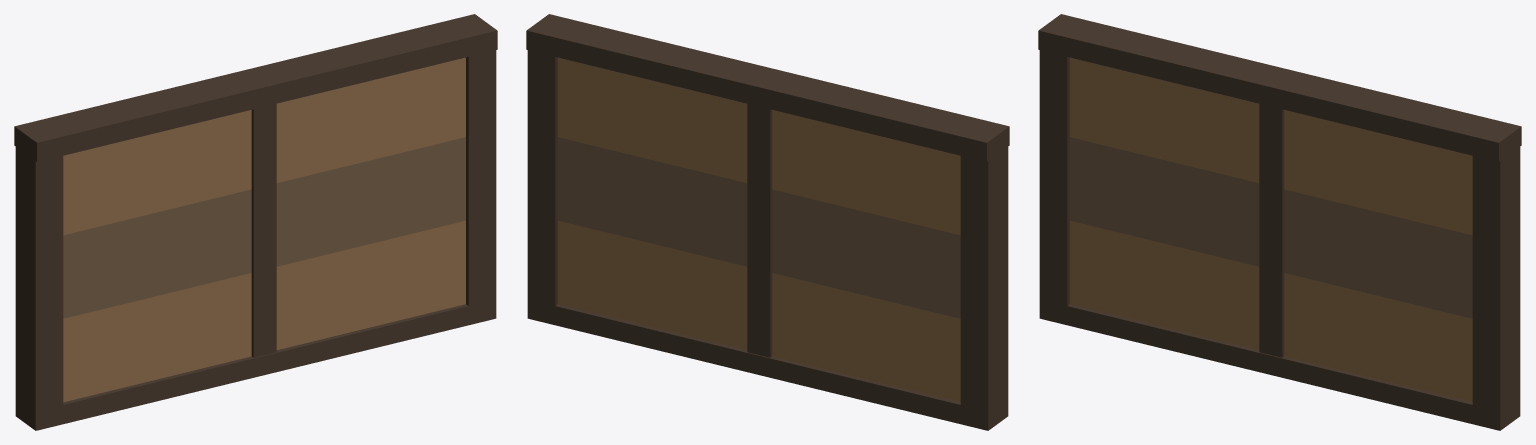
Rendered from base_half_wall.glb.
The picture shows the model from 3 angles, left to right: view 1: azimuth 30°, elevation 25°; view 2: azimuth 150°, elevation 25°; view 3: azimuth 330°, elevation 25°; orthographic projection.
Parts seen in each view (by area): view 1: base_half_wall; view 2: base_half_wall; view 3: base_half_wall.
Part boxes in pixels (left/top/right/bottom): base_half_wall: left=14, top=14, right=497, bottom=430; base_half_wall: left=526, top=14, right=1009, bottom=430; base_half_wall: left=1038, top=14, right=1521, bottom=430.
Size of what is drawn, in the model's own units: 2 by 1.2 by 0.17.
Materials: 1 (1 with a texture image).
